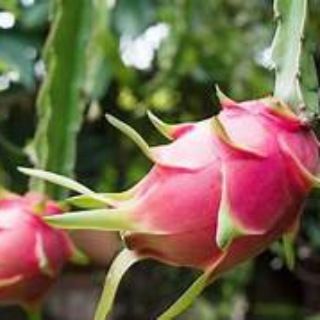thanh_long: (62, 95, 320, 277)
